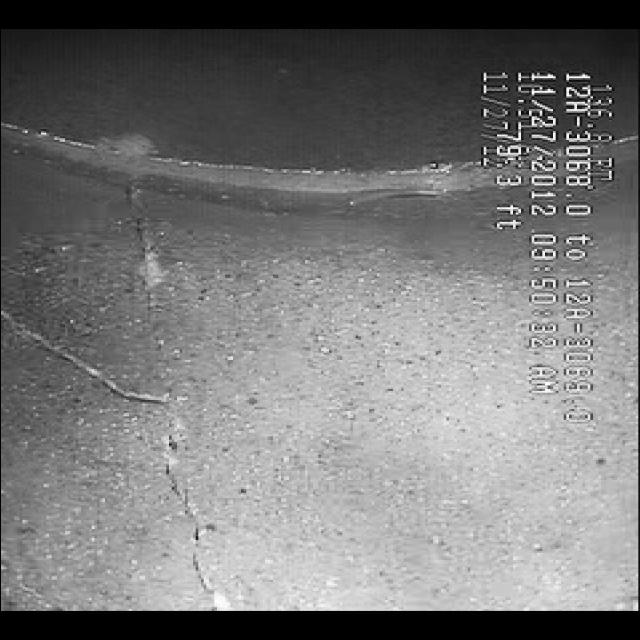Crack: (110, 195, 240, 606)
